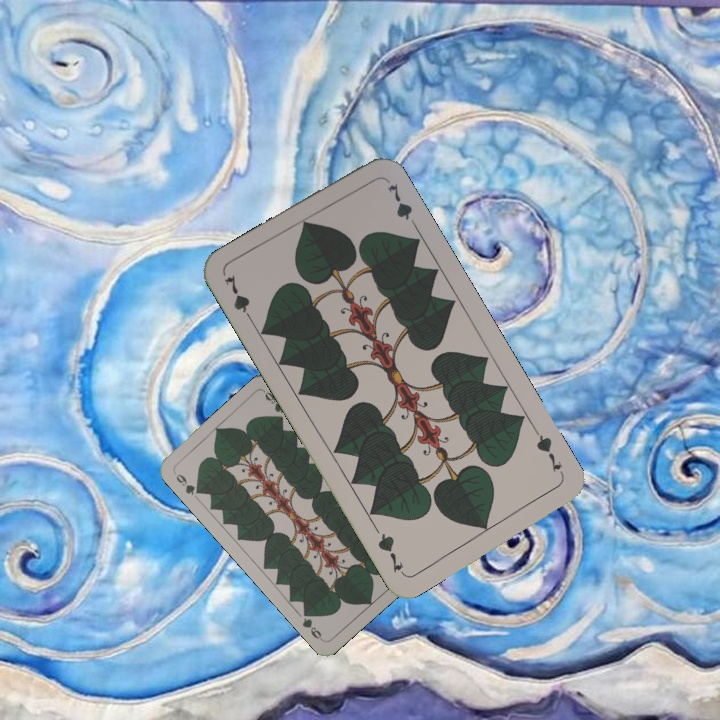G7: (220, 270, 257, 326), (530, 426, 564, 475)
G9: (170, 468, 205, 497)
